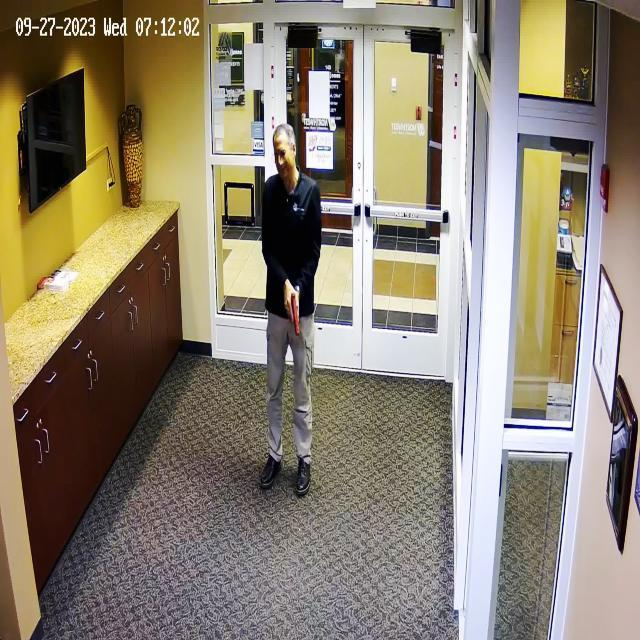Gun: (282, 282, 314, 352)
